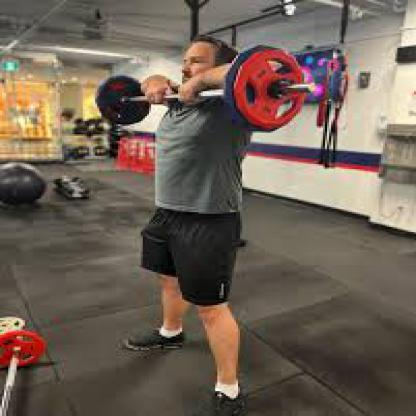barbell: (94, 44, 316, 133)
